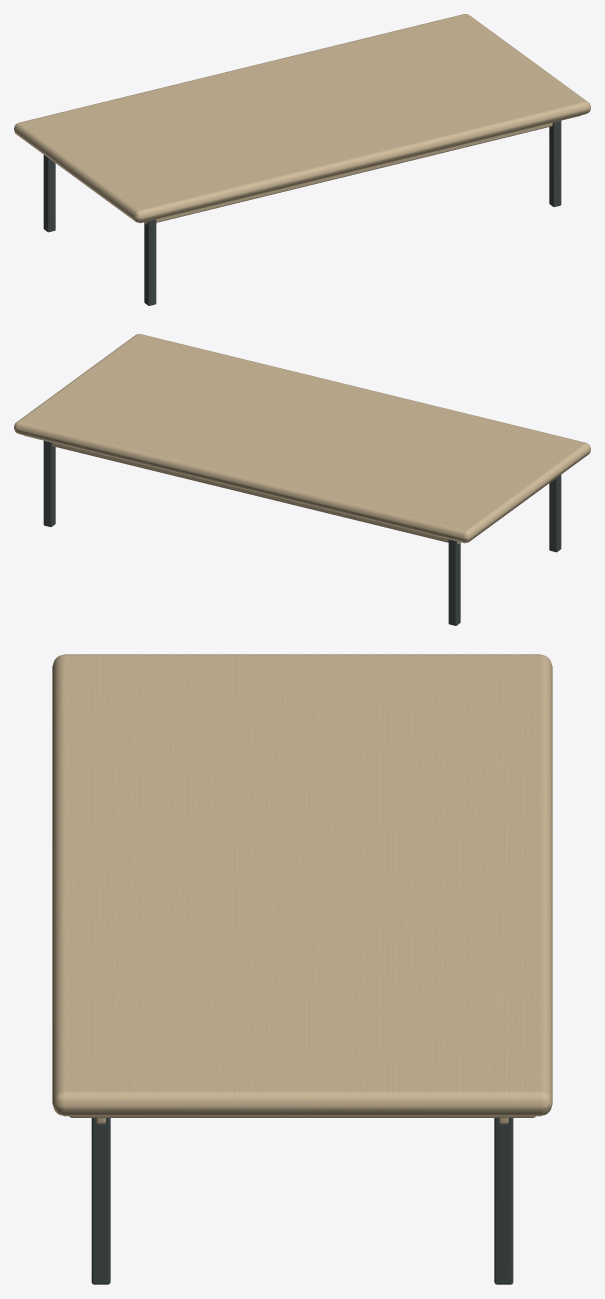
File: conference-table-v1.glb
3 views of the same model, one above another, from view 1: azimuth 30°, elevation 25°; view 2: azimuth 150°, elevation 25°; view 3: azimuth 270°, elevation 25° (orthographic). The views are drawn at different scales.
Visible parts, largest first — view 1: Pale oak continuous top; view 2: Pale oak continuous top; view 3: Pale oak continuous top.
Boxes of the visible parts, x1=… form: Pale oak continuous top: x1=14, y1=14, x2=590, y2=305; Pale oak continuous top: x1=14, y1=334, x2=590, y2=625; Pale oak continuous top: x1=52, y1=654, x2=552, y2=1284.
Bounding box in the file's own units: 3.9 × 0.86 × 1.85.
Materials: 2 (1 with a texture image).
